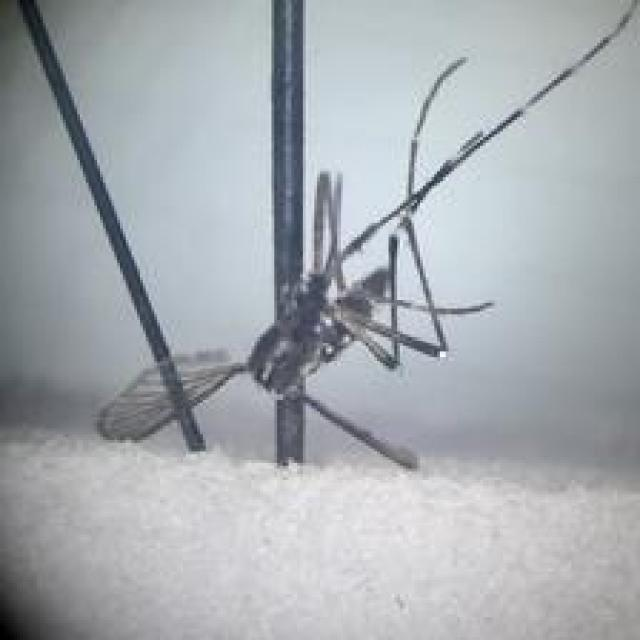Aedes albopictus: (1, 0, 638, 474)
